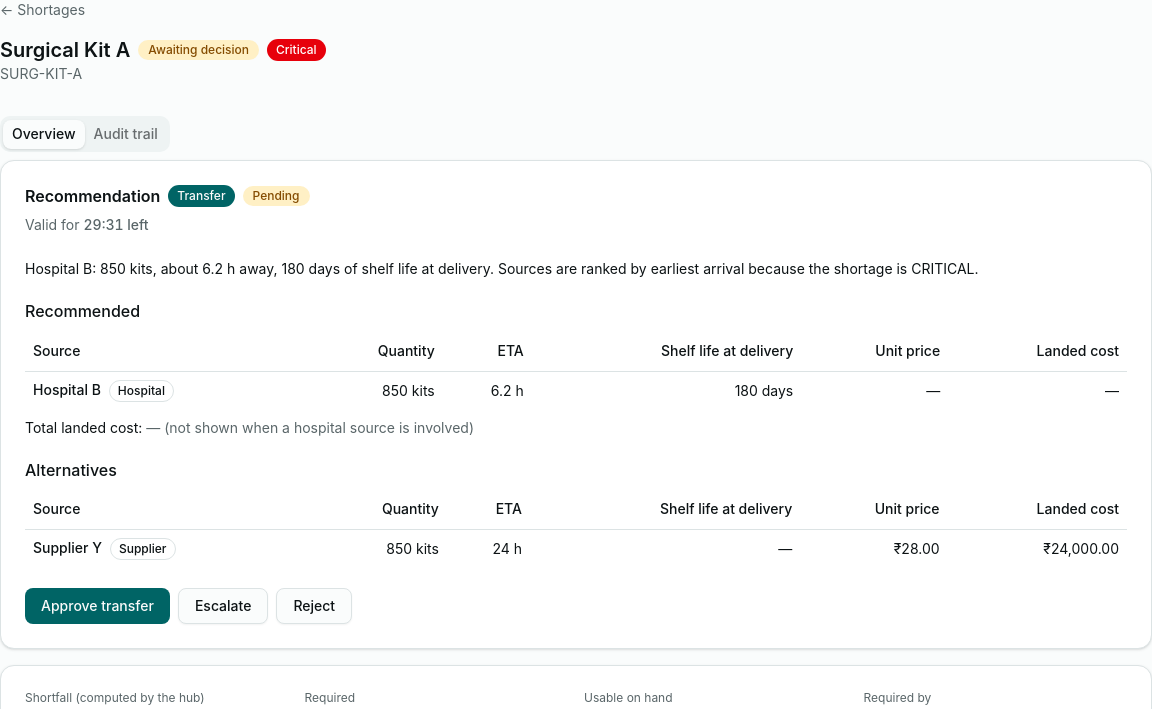
Scenario: Decision panel › shows the hub's message when a decision is refused, and refetches
Step 1. Click the button "Approve transfer" → (97, 606), box [25,588,170,624]
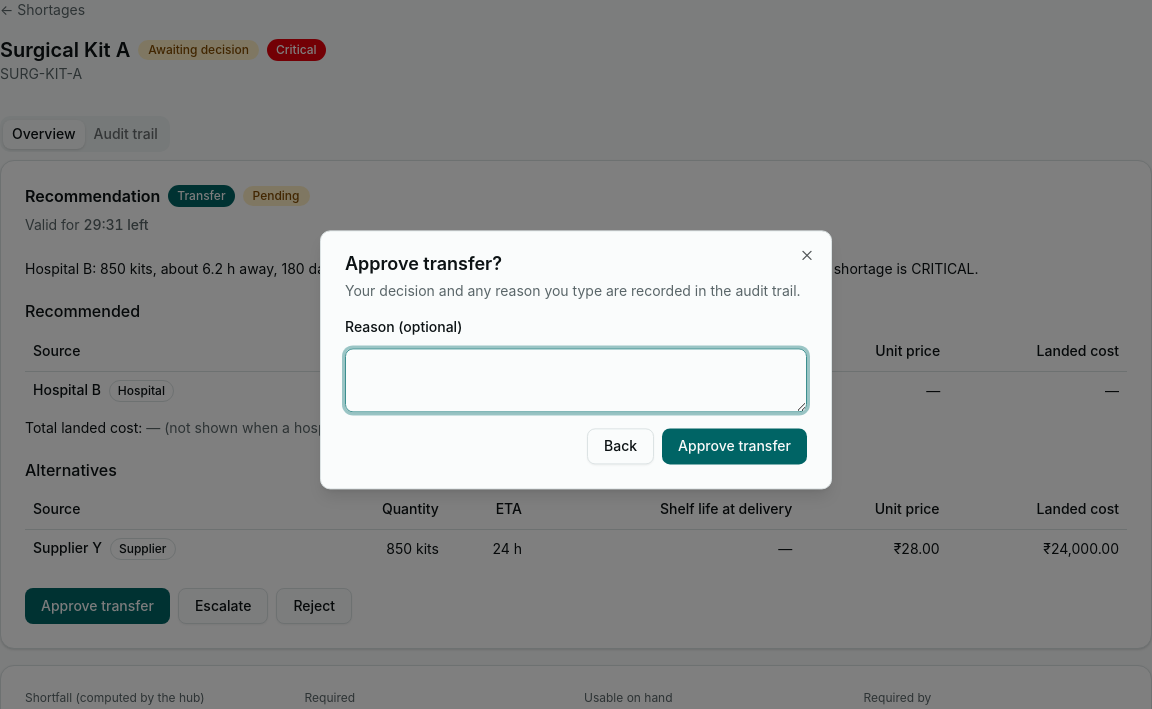
Step 2. Click the button "Approve transfer" → (735, 447), box [662,429,807,465]
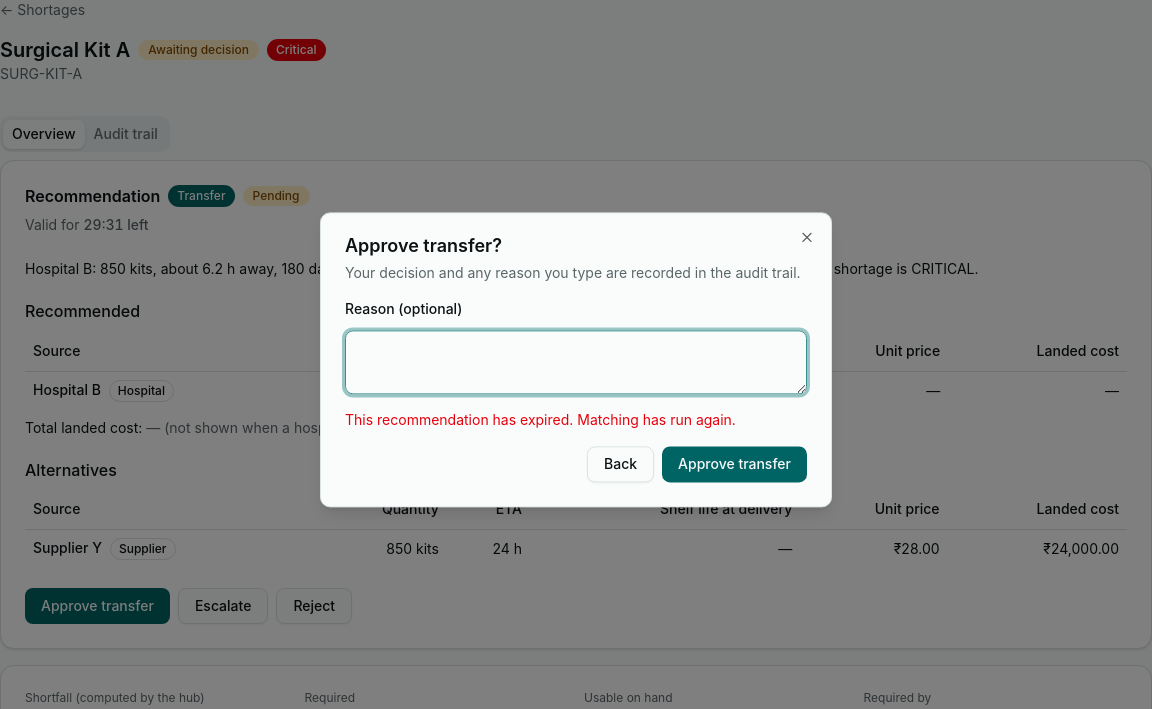
expect the text "This recommendation has expired. Matching has run again." is shown: met, box [345,412,736,429]
